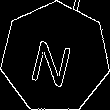N_N: (30, 28, 81, 87)
